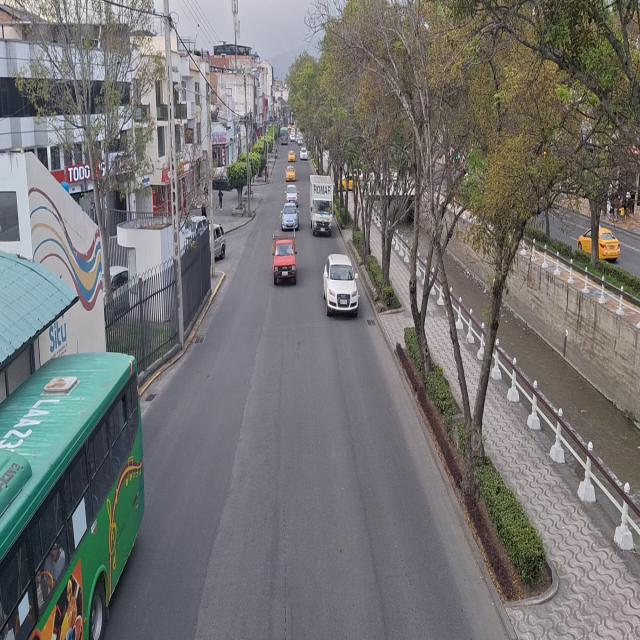BUS: (0, 364, 128, 640)
CMT: (275, 239, 298, 286)
SED: (324, 258, 356, 313), (581, 230, 617, 260)
TRUCK: (311, 183, 334, 235)
